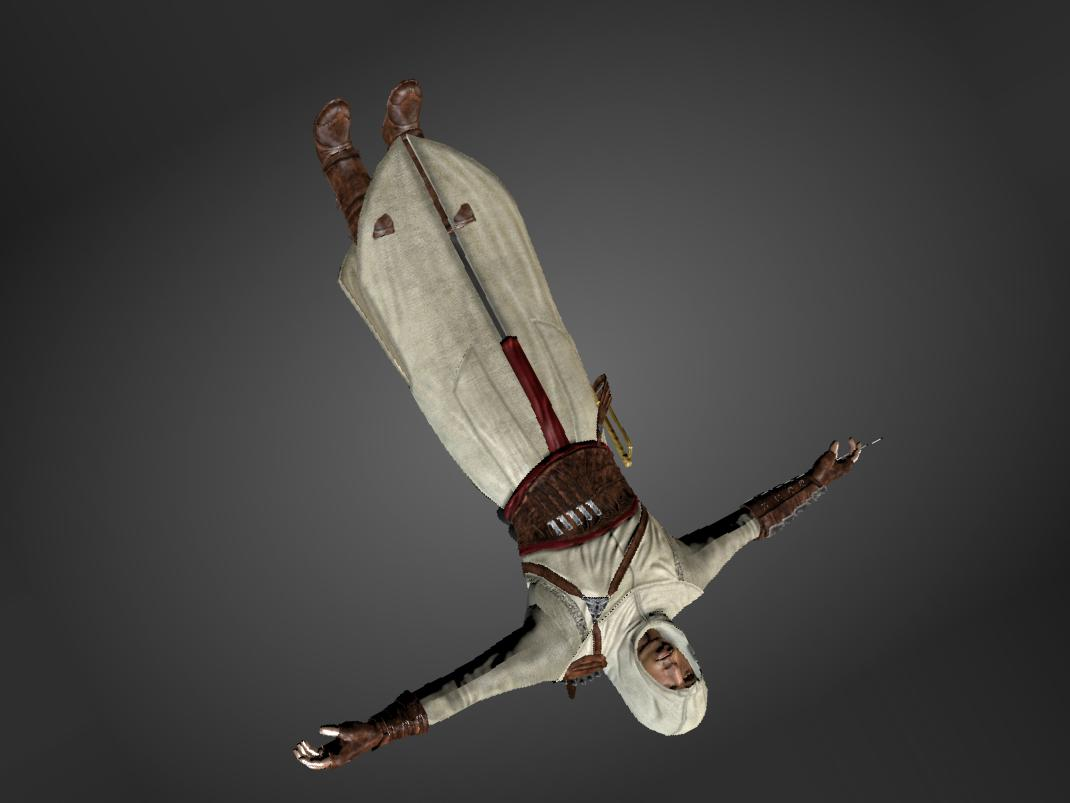clip: (449, 202, 476, 227), (372, 213, 394, 238)
